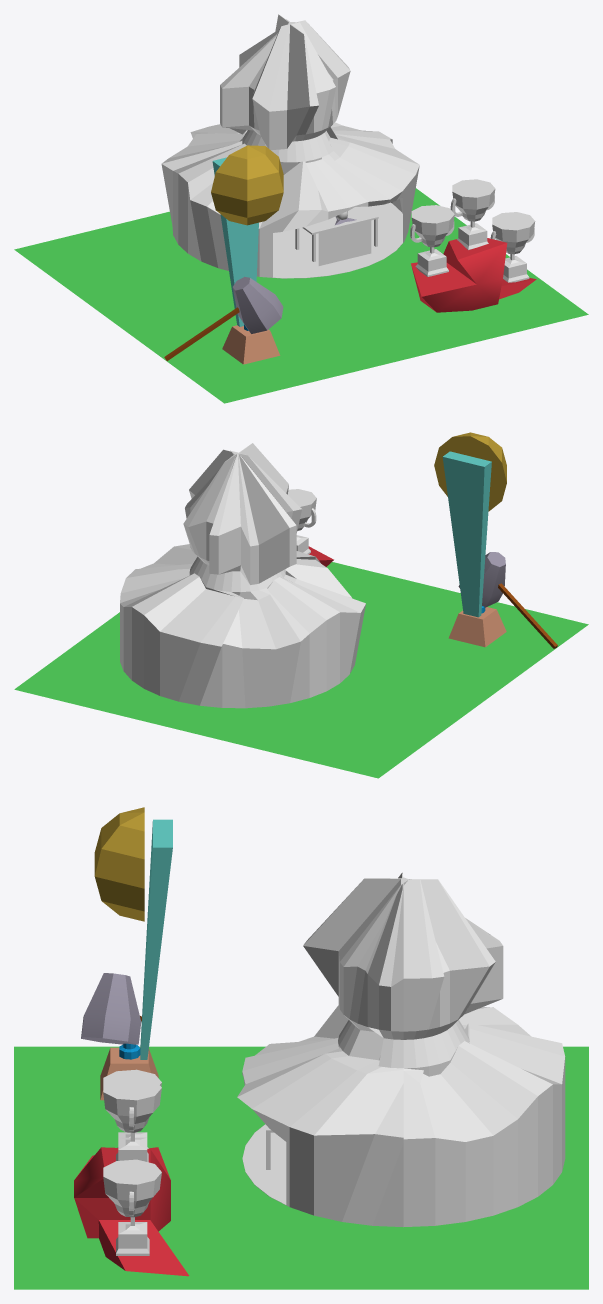
File: high score land.fbx
The picture shows the model from 3 angles, top to bottom: view 1: azimuth 30°, elevation 25°; view 2: azimuth 150°, elevation 25°; view 3: azimuth 270°, elevation 25°; orthographic projection. The views are drawn at different scales.
Parts seen in each view (by area): view 1: Plane, tent, strength tester GOLD BELL GREEN METER BLUE BUTTON BROWN BASE, PODIUM red arcade machine buttion colour, table, mallet METAL HEAD BROWN STICK, TROPHY uncoloured.001, TROPHY uncoloured.000, TROPHY uncoloured.002; view 2: tent, Plane, strength tester GOLD BELL GREEN METER BLUE BUTTON BROWN BASE, mallet METAL HEAD BROWN STICK, TROPHY uncoloured.001; view 3: tent, Plane, strength tester GOLD BELL GREEN METER BLUE BUTTON BROWN BASE, PODIUM red arcade machine buttion colour, TROPHY uncoloured.002, TROPHY uncoloured.000, mallet METAL HEAD BROWN STICK.
Boxes of the visible parts, x1=… form: Plane: x1=14, y1=188, x2=588, y2=403; tent: x1=161, y1=14, x2=419, y2=278; strength tester GOLD BELL GREEN METER BLUE BUTTON BROWN BASE: x1=211, y1=145, x2=283, y2=364; PODIUM red arcade machine buttion colour: x1=411, y1=238, x2=536, y2=312; table: x1=295, y1=206, x2=378, y2=265; mallet METAL HEAD BROWN STICK: x1=164, y1=276, x2=283, y2=360; TROPHY uncoloured.001: x1=410, y1=205, x2=454, y2=276; TROPHY uncoloured.000: x1=450, y1=179, x2=495, y2=249; TROPHY uncoloured.002: x1=490, y1=212, x2=535, y2=282; tent: x1=120, y1=443, x2=365, y2=708; Plane: x1=14, y1=562, x2=588, y2=778; strength tester GOLD BELL GREEN METER BLUE BUTTON BROWN BASE: x1=434, y1=432, x2=506, y2=647; mallet METAL HEAD BROWN STICK: x1=458, y1=552, x2=557, y2=648; TROPHY uncoloured.001: x1=287, y1=489, x2=316, y2=554; tent: x1=237, y1=872, x2=565, y2=1227; Plane: x1=14, y1=1046, x2=588, y2=1289; strength tester GOLD BELL GREEN METER BLUE BUTTON BROWN BASE: x1=94, y1=807, x2=172, y2=1100; PODIUM red arcade machine buttion colour: x1=74, y1=1147, x2=189, y2=1276; TROPHY uncoloured.002: x1=103, y1=1159, x2=161, y2=1255; TROPHY uncoloured.000: x1=103, y1=1075, x2=161, y2=1162; mallet METAL HEAD BROWN STICK: x1=81, y1=973, x2=141, y2=1044.
Bounding box in the file's own units: 2.08 × 1.18 × 2.
